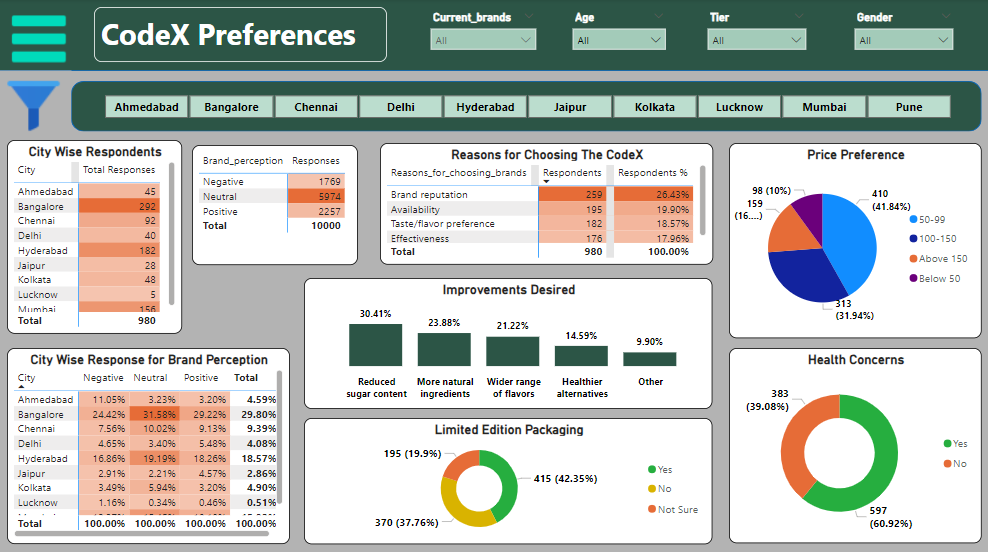

This screenshot's page, from the dashboard's own definition file:
{"tool":"powerbi","page":{"name":"CodeX Preferences","canvas":[1280,720],"ordinal":6},"visuals":[{"type":"pivotTable","title":"City Wise Respondents","fields":{"Rows":["dim_cities.City"],"Values":["CountNonNull(fact_survey_responses.Response_ID)"]},"box":[10.3,181.9,225.8,250.3],"z":0},{"type":"pivotTable","title":"Reasons for Choosing The CodeX","fields":{"Rows":["fact_survey_responses.Reasons_for_choosing_brands"],"Values":["CountNonNull(fact_survey_responses.Response_ID)","Divide(CountNonNull(fact_survey_responses.Response_ID), ScopedEval(CountNonNull(fact_survey_responses.Response_ID), []))"]},"box":[491.6,185.8,429.7,157.4],"z":1000},{"type":"pivotTable","title":"City Wise Response for Brand Perception","fields":{"Rows":["dim_cities.City"],"Columns":["fact_survey_responses.Brand_perception"],"Values":["CountNonNull(fact_survey_responses.Response_ID)"]},"box":[10.3,450.3,365.2,252.9],"z":2000},{"type":"columnChart","title":"Improvements Desired","fields":{"Category":["fact_survey_responses.Improvements_desired"],"Y":["CountNonNull(fact_survey_responses.Response_ID)"]},"box":[394,360,527.2,168.7],"z":3000},{"type":"donutChart","title":"Limited Edition Packaging","fields":{"Category":["fact_survey_responses.Limited_edition_packaging"],"Y":["CountNonNull(fact_survey_responses.Response_ID)"]},"box":[394,540,527.2,163],"z":4000},{"type":"donutChart","title":"Health Concerns","fields":{"Category":["fact_survey_responses.Health_concerns"],"Y":["CountNonNull(fact_survey_responses.Response_ID)"]},"box":[942.5,450.7,326,252.3],"z":5000},{"type":"pivotTable","fields":{"Rows":["fact_survey_responses.Brand_perception"],"Values":["CountNonNull(fact_survey_responses.Response_ID)"]},"box":[249,188.4,214.2,154.8],"z":5500},{"type":"pieChart","title":"Price Preference","fields":{"Category":["fact_survey_responses.Price_range"],"Y":["CountNonNull(fact_survey_responses.Response_ID)"]},"box":[942.5,185.7,326,252.3],"z":6000},{"type":"shape","box":[0,0,1280,92.8],"z":7000},{"type":"shape","box":[93.5,106.3,1175,65.2],"z":8000},{"type":"textbox","box":[122.7,10,378.1,71.3],"z":9000},{"type":"slicer","fields":{"Values":["dim_cities.City"]},"box":[110.6,117.6,1140.9,42.5],"z":10000},{"type":"slicer","fields":{"Values":["dim_repondents.Age"]},"box":[730.6,10,139.8,71.3],"z":11000},{"type":"slicer","fields":{"Values":["dim_cities.Tier"]},"box":[904.7,10,147,71.3],"z":12000},{"type":"slicer","fields":{"Values":["fact_survey_responses.Current_brands"]},"box":[546.5,10,155.5,71.3],"z":13000},{"type":"slicer","fields":{"Values":["dim_repondents.Gender"]},"box":[1094.5,10,147,71.3],"z":14000},{"type":"actionButton","title":"filter","box":[0,92.1,93.5,89.3],"z":15000},{"type":"actionButton","title":"menu open","box":[10,10,100.1,82.2],"z":16000}]}

Visuals, with their boxes in screenshot pixels (x1, y1, x2, y2), scaled from the page's 1280x720 canvas onto the 988x552 screenshot:
"City Wise Respondents" pivotTable: <region>8, 139, 182, 331</region>
"Reasons for Choosing The CodeX" pivotTable: <region>379, 142, 711, 263</region>
"City Wise Response for Brand Perception" pivotTable: <region>8, 345, 290, 539</region>
"Improvements Desired" columnChart: <region>304, 276, 711, 405</region>
"Limited Edition Packaging" donutChart: <region>304, 414, 711, 539</region>
"Health Concerns" donutChart: <region>727, 346, 979, 539</region>
pivotTable - fact_survey_responses.Brand_perception x CountNonNull(fact_survey_responses.Response_ID): <region>192, 144, 358, 263</region>
"Price Preference" pieChart: <region>727, 142, 979, 336</region>
shape: <region>0, 0, 987, 71</region>
shape: <region>72, 81, 979, 131</region>
textbox: <region>95, 8, 387, 62</region>
slicer - dim_cities.City: <region>85, 90, 966, 123</region>
slicer - dim_repondents.Age: <region>564, 8, 672, 62</region>
slicer - dim_cities.Tier: <region>698, 8, 812, 62</region>
slicer - fact_survey_responses.Current_brands: <region>422, 8, 542, 62</region>
slicer - dim_repondents.Gender: <region>845, 8, 958, 62</region>
"filter" actionButton: <region>0, 71, 72, 139</region>
"menu open" actionButton: <region>8, 8, 85, 71</region>
